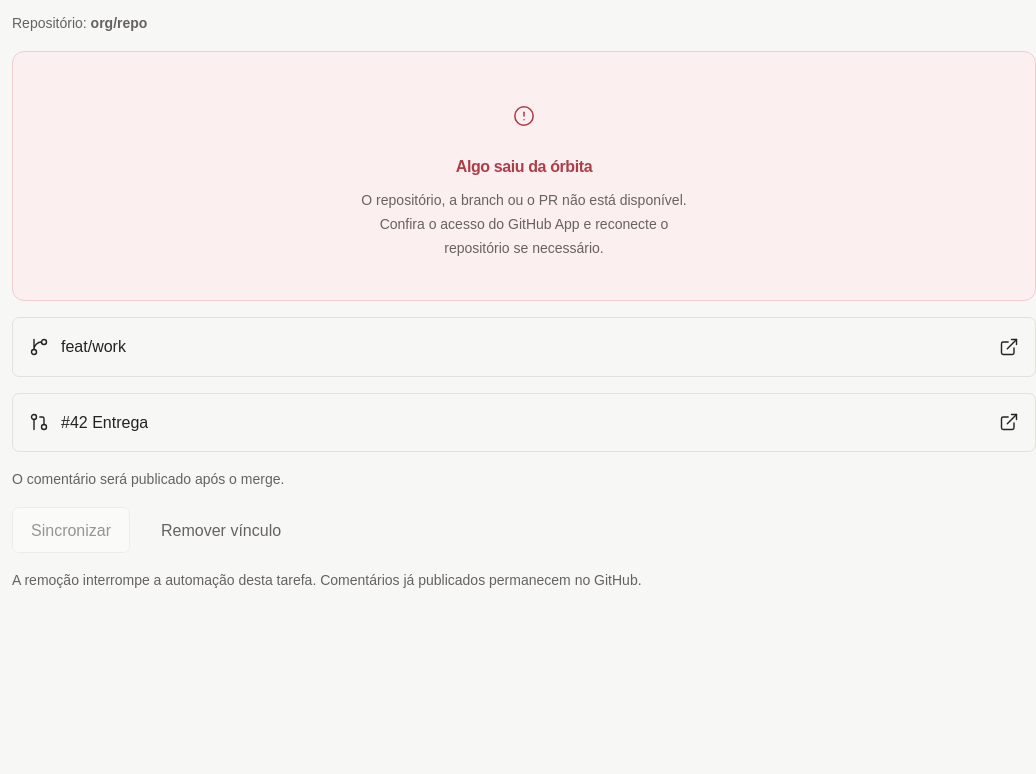
Test case: allows removal of an unavailable repository link and reports failed writes
Expected: the button "Sincronizar" is disabled, x1=12 y1=507 x2=130 y2=553
Click the button "Remover vínculo" at [221, 530], box x1=142 y1=507 x2=300 y2=553
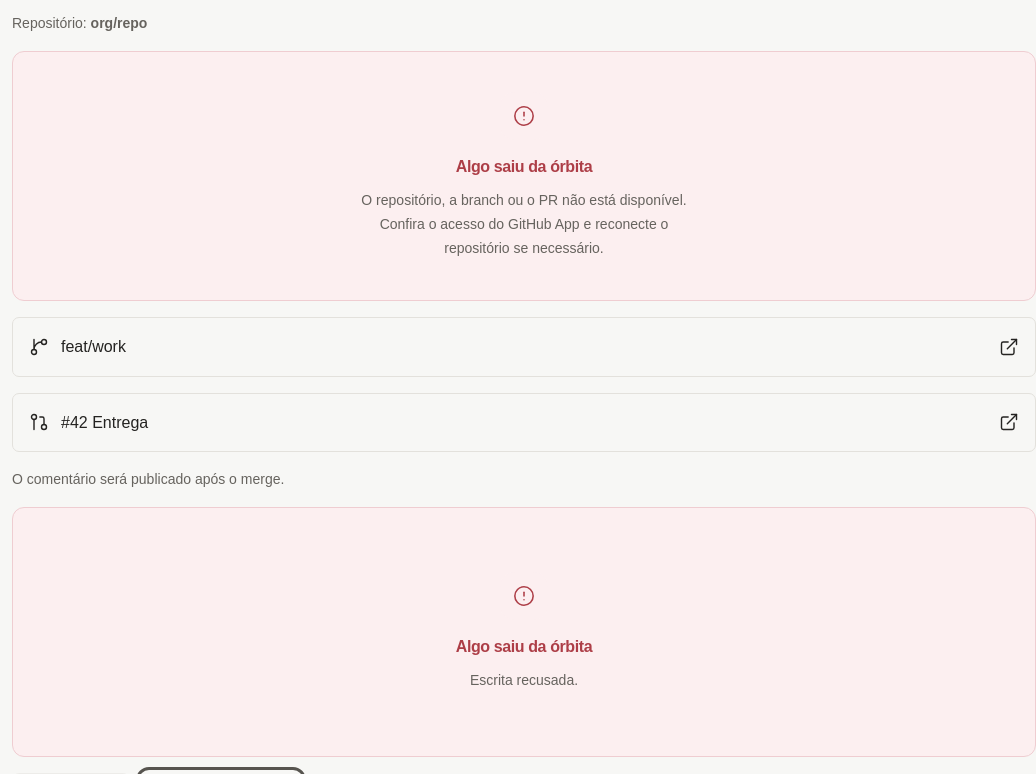
Expected: the link "#42 Entrega" is shown, x1=12 y1=393 x2=1035 y2=452
Expected: the text "Escrita recusada." is shown, x1=470 y1=669 x2=578 y2=693
